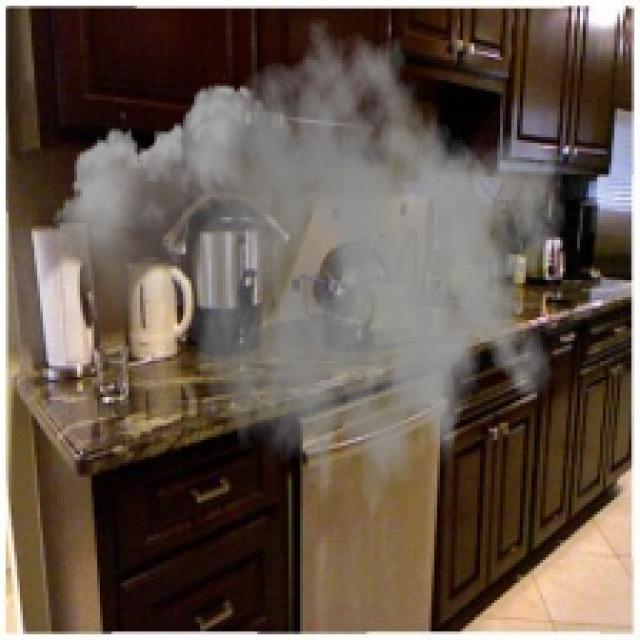smoke: (46, 17, 568, 543)
